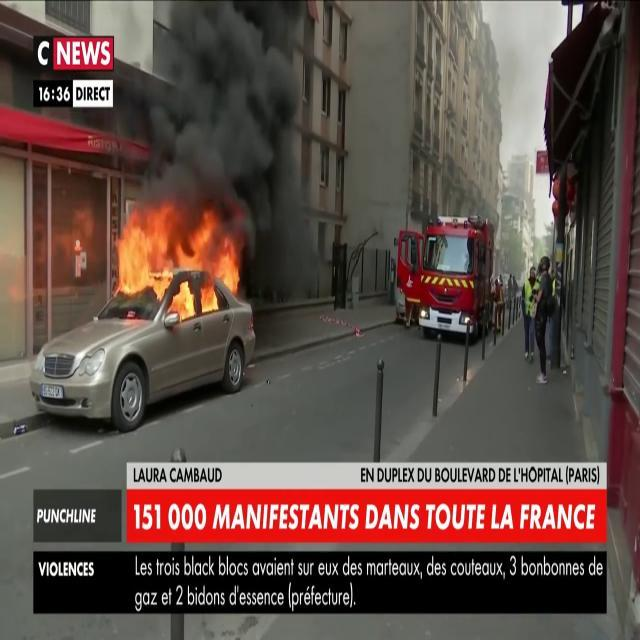Fire: (112, 198, 240, 318)
Smoke: (133, 0, 321, 253)
